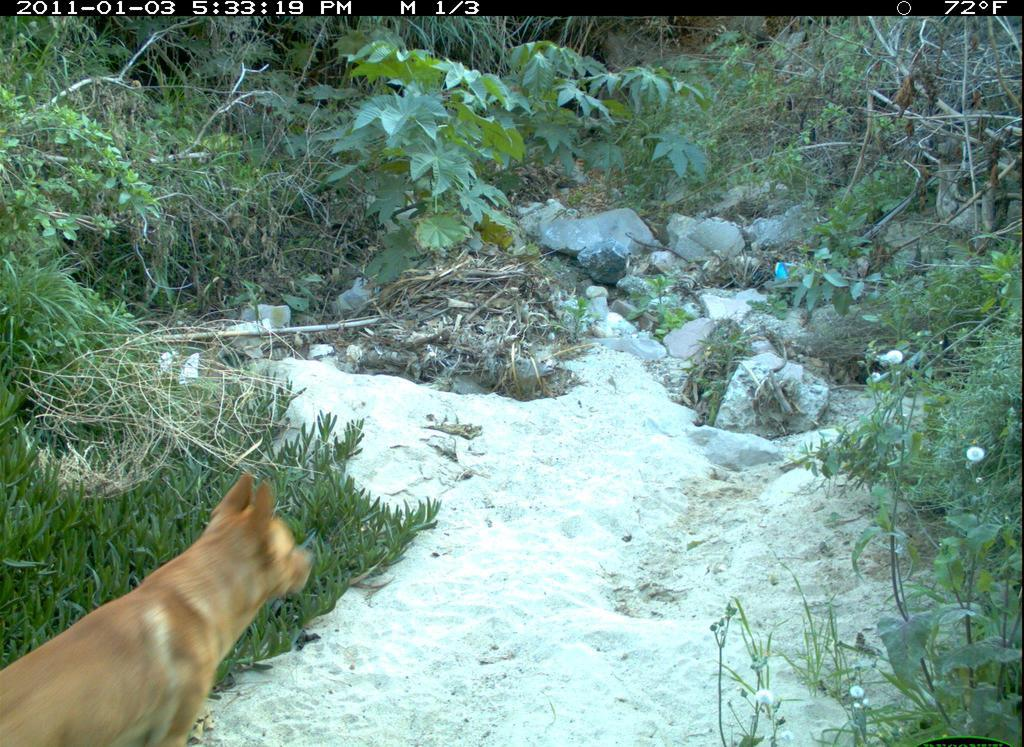dog: (4, 466, 331, 745)
